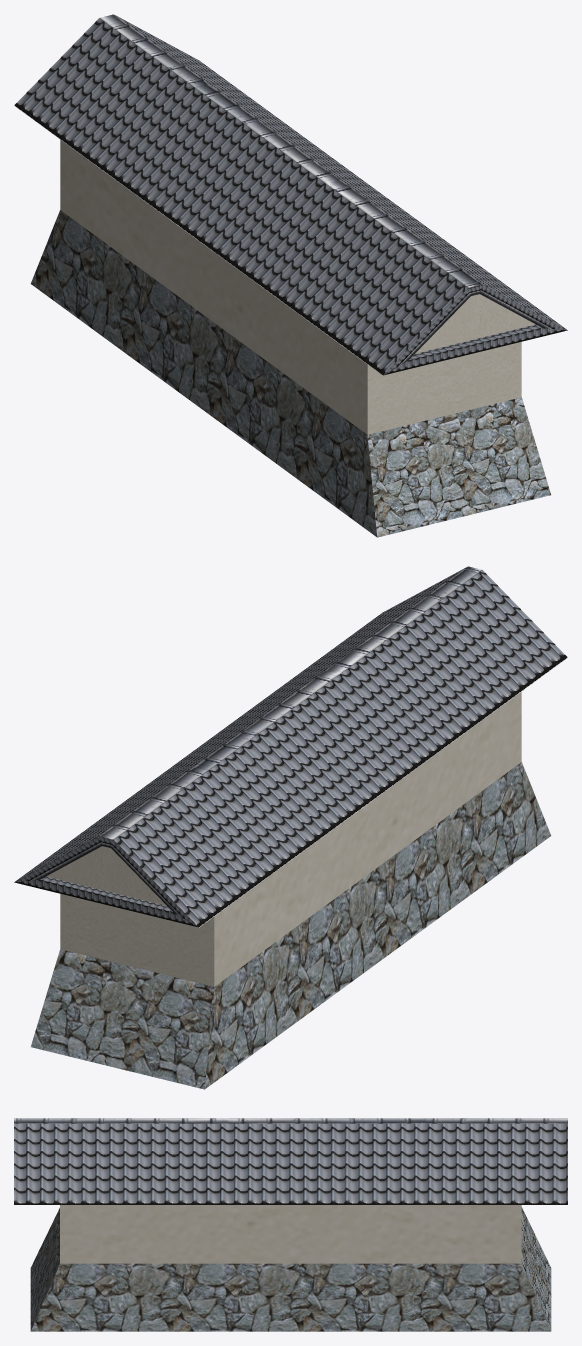
Rendered from hashirinagaya.fbx.
3 renders of one model, top to bottom at view 1: azimuth 30°, elevation 25°; view 2: azimuth 150°, elevation 25°; view 3: azimuth 270°, elevation 25°, orthographic. The views are drawn at different scales.
Visible parts, largest first — view 1: 立方体; view 2: 立方体; view 3: 立方体.
Part boxes in pixels (x1,y1,x2,y2): 立方体: (14,14,567,537); 立方体: (14,566,567,1089); 立方体: (14,1118,567,1331).
Size of the model in its own units: 43.44 by 53.43 by 150.
Materials: 3 (3 with a texture image).
